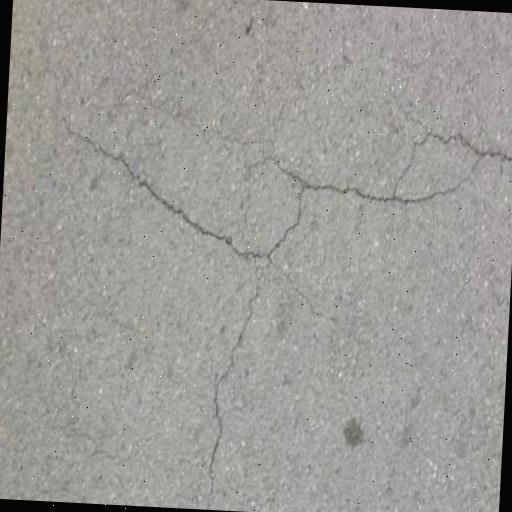spalling: (55, 120, 509, 285), (175, 262, 284, 483)
